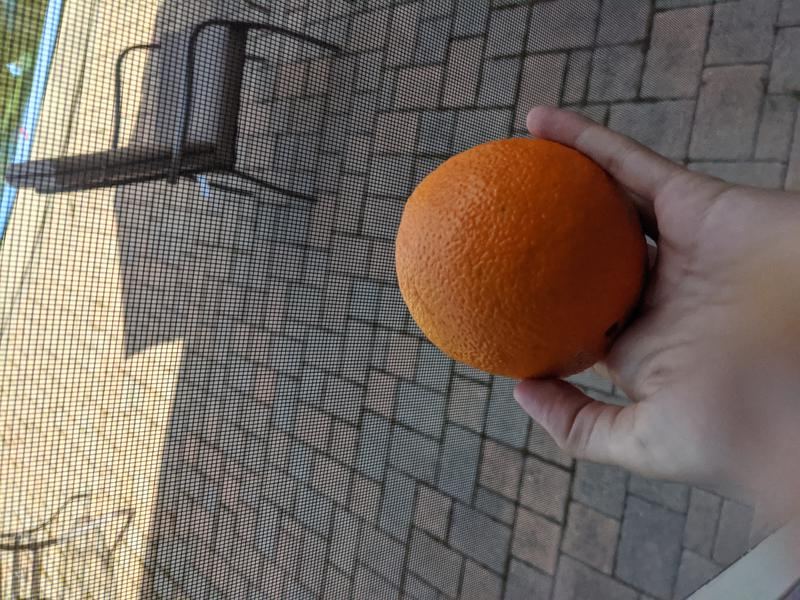orange: (395, 136, 649, 379)
